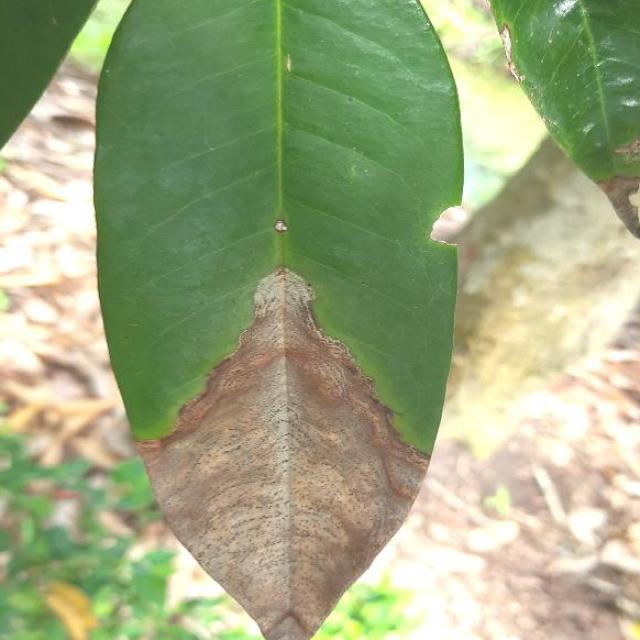Leaf Blight: (84, 0, 474, 640)
